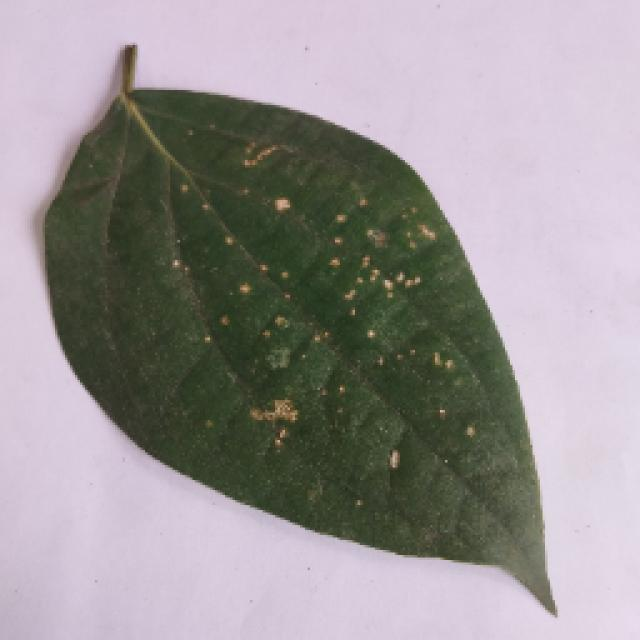pollu-disease: (20, 55, 595, 620)
